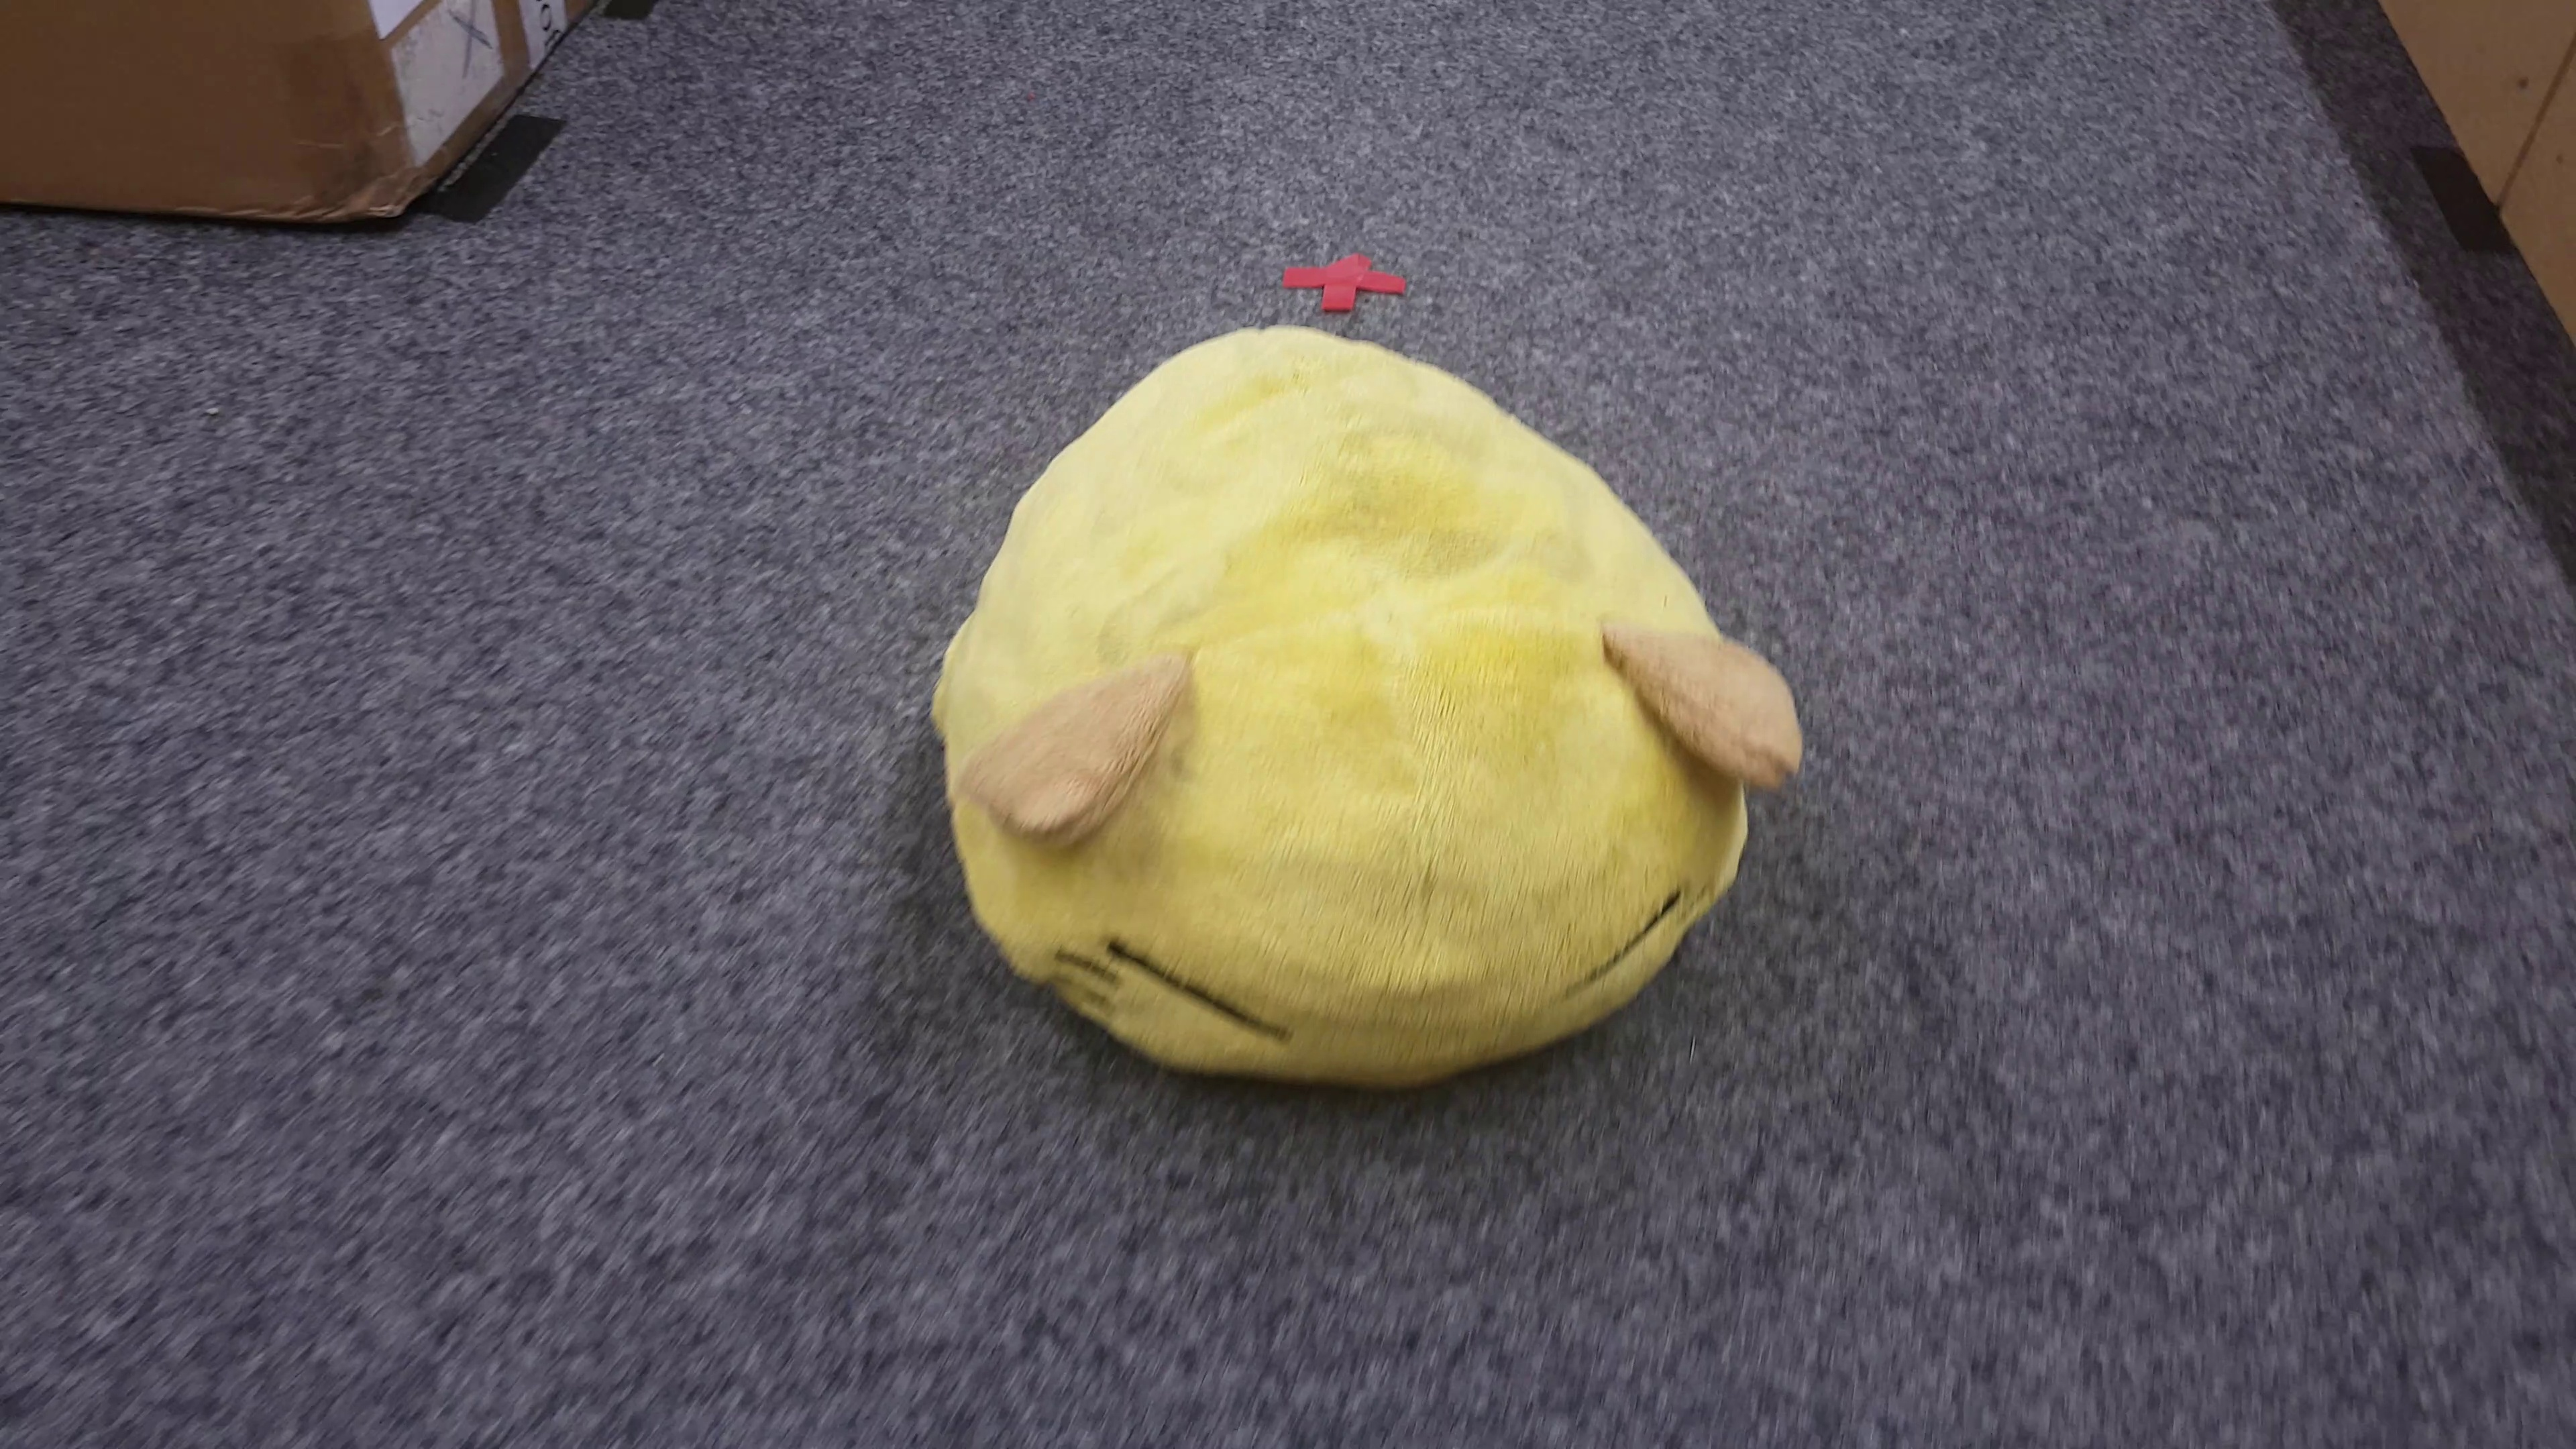grasp: (934, 326, 1801, 1085)
